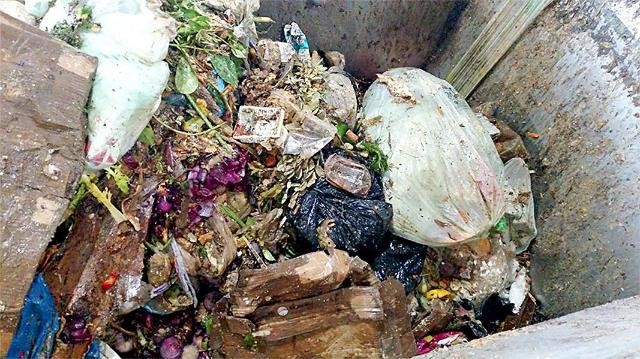Disposable: (284, 114, 336, 159), (324, 154, 371, 197), (232, 106, 285, 142)
Garbage: (0, 0, 537, 359)
Plastic: (479, 294, 514, 334)
Plastic_Bag: (361, 69, 504, 246), (79, 0, 176, 170), (290, 174, 392, 253), (6, 274, 60, 358), (372, 237, 426, 292), (325, 72, 358, 129)
Plastic_bottle: (503, 157, 536, 253), (284, 23, 310, 63)
Plastic_wraper: (416, 331, 467, 354)
